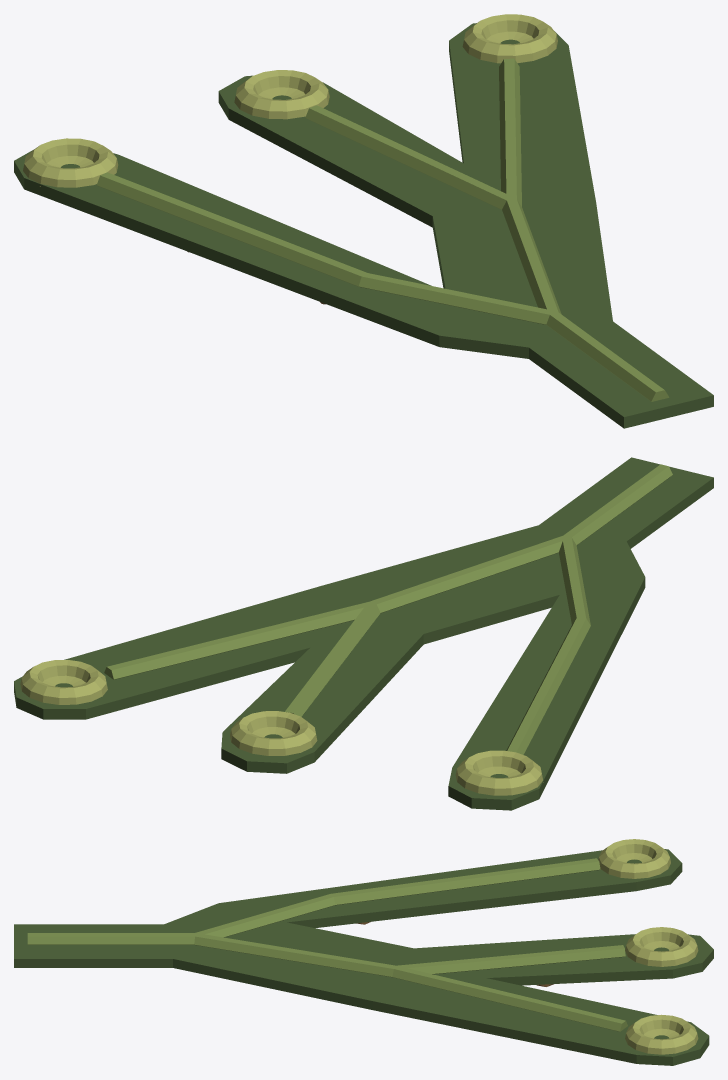
File: marchantites.glb
3 renders of one model, top to bottom at view 1: azimuth 30°, elevation 25°; view 2: azimuth 150°, elevation 25°; view 3: azimuth 270°, elevation 25°, orthographic. The views are drawn at different scales.
Parts seen in each view (by area): view 1: marchantites-three-distal-cups; view 2: marchantites-three-distal-cups; view 3: marchantites-three-distal-cups.
Boxes of the visible parts, <box> form: marchantites-three-distal-cups: <box>14,14,713,428</box>; marchantites-three-distal-cups: <box>14,457,713,810</box>; marchantites-three-distal-cups: <box>14,839,713,1065</box>.
Bounding box in the file's own units: 0.011 × 0.000717 × 0.0154.
